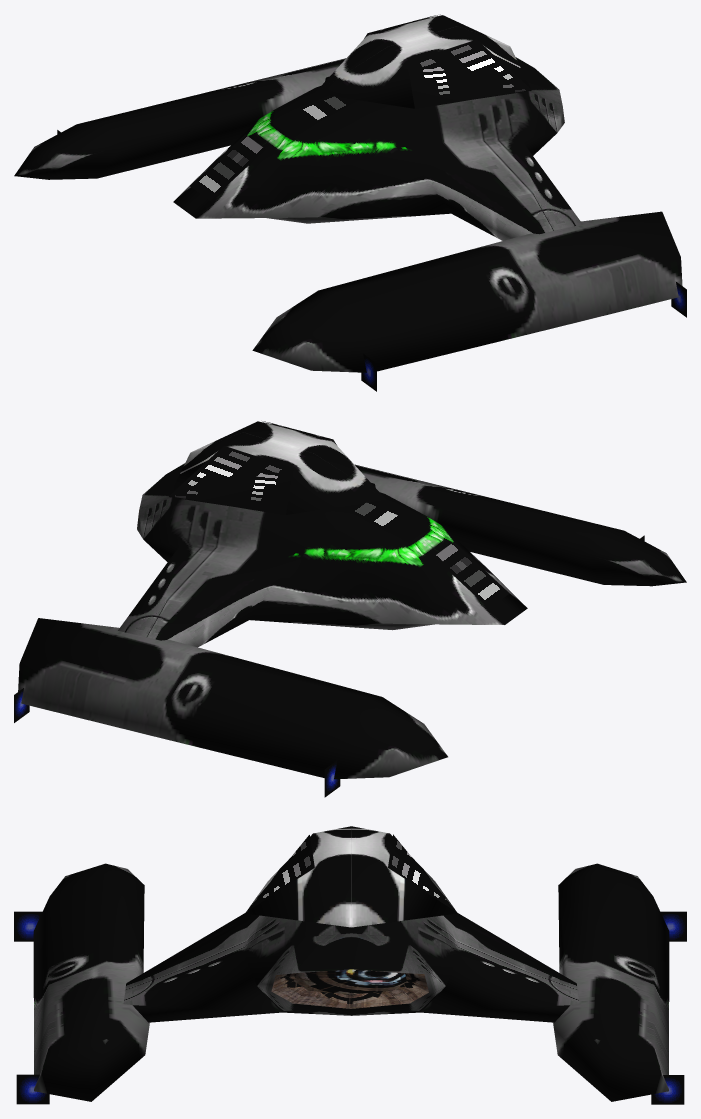
Rendered from JVE01A.obj.
3 renders of one model, top to bottom at view 1: azimuth 30°, elevation 25°; view 2: azimuth 150°, elevation 25°; view 3: azimuth 270°, elevation 25°, orthographic. The views are drawn at different scales.
Visible parts, largest first — view 1: TVE02A0, PANEL_20, LITE-PANEL-10, TOP-DETAIL-10.001, TOP-DETAIL-020.001; view 2: TVE02A0, PANEL_20, LITE-PANEL-020, TOP-DETAIL-10.001, TOP-DETAIL-020.001; view 3: TVE02A0, PANEL_20, JVEE01AVC0, LITE-PANEL-020, LITE-PANEL-10, LF060.002, LF110.002, LF040.001, LF080.001.
Boxes of the visible parts, x1,y1,x2,y2 form: TVE02A0: (14,57,682,372); PANEL_20: (314,15,531,108); LITE-PANEL-10: (407,39,531,108); TOP-DETAIL-10.001: (190,134,265,200); TOP-DETAIL-020.001: (290,95,358,126); TVE02A0: (18,463,686,779); PANEL_20: (169,421,385,514); LITE-PANEL-020: (169,446,293,515); TOP-DETAIL-10.001: (433,542,509,608); TOP-DETAIL-020.001: (340,502,409,532); TVE02A0: (33,857,669,1101); PANEL_20: (246,826,456,927); JVEE01AVC0: (271,969,428,1008); LITE-PANEL-020: (388,834,456,911); LITE-PANEL-10: (246,835,314,911); LF060.002: (16,1074,49,1104); LF110.002: (651,1075,684,1104); LF040.001: (14,911,42,941); LF080.001: (660,911,686,941).
Bounding box in the file's own units: 78.83 × 35.15 × 106.
Materials: 13 (13 with a texture image).
